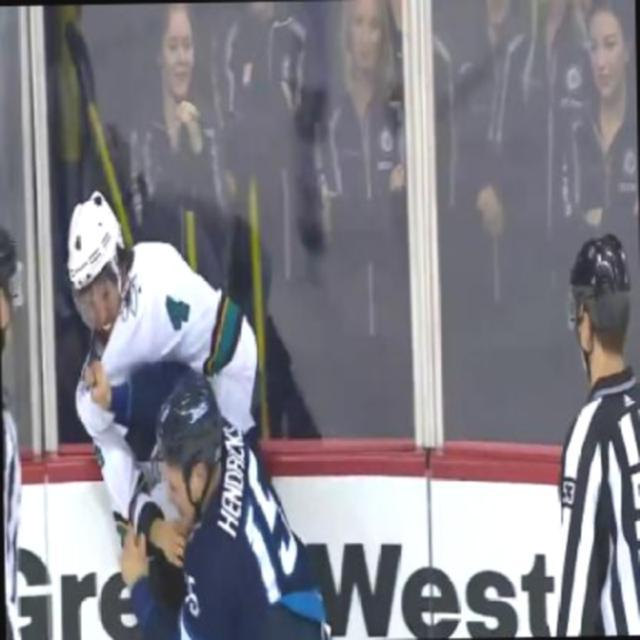fight: (63, 190, 332, 638)
non-fight: (548, 232, 638, 636), (308, 0, 420, 246), (120, 2, 240, 215), (561, 0, 638, 232)
